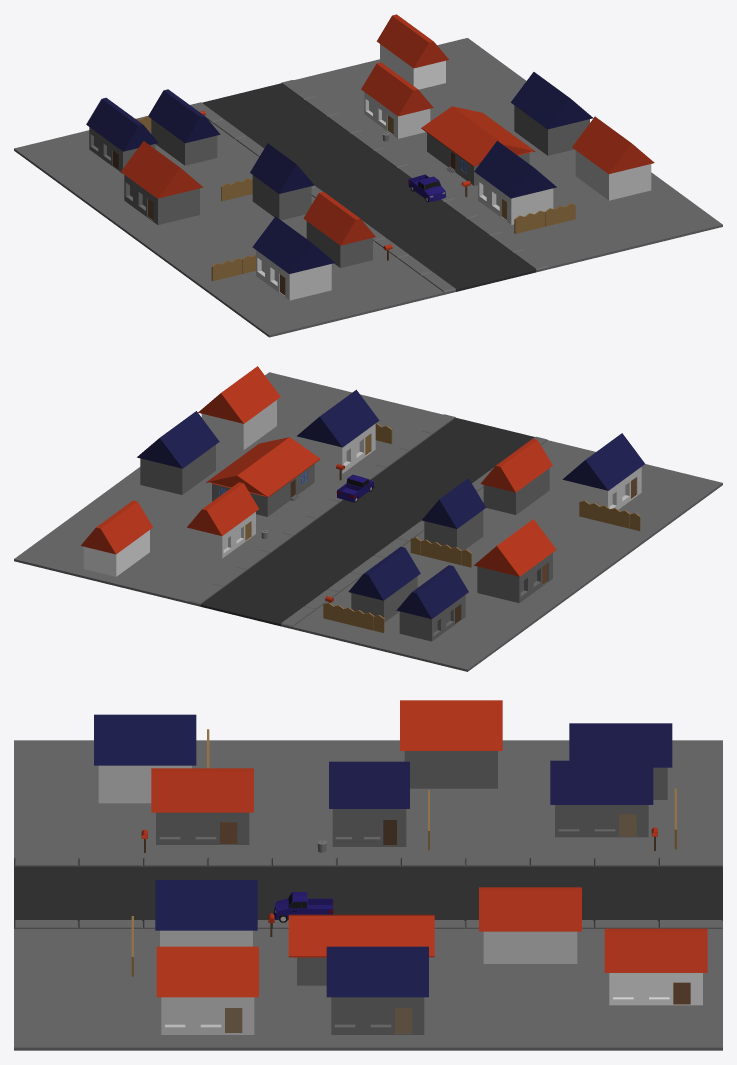
The model's file is map001.fbx.
3 views of the same model, one above another, from view 1: azimuth 30°, elevation 25°; view 2: azimuth 150°, elevation 25°; view 3: azimuth 270°, elevation 25° (orthographic). The views are drawn at different scales.
Parts seen in each view (by area): view 1: Rua, Telhado, Telhado Casa Generica.006, Telhado Casa Generica.005, Telhado Casa Generica.003, Telhado Casa Generica.007, Telhado Casa Generica.004, Base Casa Genrica.004, Telhado Casa Generica.010, Telhado Casa Generica.001, Telhado Casa Generica.009, Telhado Casa Generica (+17 smaller); view 2: Rua, Telhado, Telhado Casa Generica.007, Telhado Casa Generica.006, Telhado Casa Generica.005, Telhado Casa Generica.003, Telhado Casa Generica.004, Base Casa Genrica.005, Telhado Casa Generica, Telhado Casa Generica.008, Telhado Casa Generica.010, Telhado Casa Generica.009 (+17 smaller); view 3: Rua, Telhado Casa Generica.007, Telhado Casa Generica.005, Telhado Casa Generica.004, Telhado, Telhado Casa Generica.006, Telhado Casa Generica.003, Telhado Casa Generica.010, Telhado Casa Generica.009, Telhado Casa Generica.001, Telhado Casa Generica, Telhado Casa Generica.008 (+13 smaller).
Boxes of the visible parts, x1,y1,x2,y2 form: Rua: (14, 38, 722, 337); Telhado: (421, 106, 535, 166); Telhado Casa Generica.006: (121, 141, 203, 198); Telhado Casa Generica.005: (511, 72, 593, 129); Telhado Casa Generica.003: (474, 141, 556, 198); Telhado Casa Generica.007: (252, 216, 334, 273); Telhado Casa Generica.004: (572, 116, 654, 173); Base Casa Genrica.004: (575, 150, 651, 200); Telhado Casa Generica.010: (376, 14, 448, 68); Telhado Casa Generica.001: (361, 62, 433, 116); Telhado Casa Generica.009: (148, 89, 220, 143); Telhado Casa Generica: (303, 191, 375, 245); Rua: (14, 372, 722, 671); Telhado: (206, 437, 320, 497); Telhado Casa Generica.007: (562, 433, 644, 490); Telhado Casa Generica.006: (474, 519, 556, 576); Telhado Casa Generica.005: (137, 411, 219, 468); Telhado Casa Generica.003: (297, 389, 379, 447); Telhado Casa Generica.004: (198, 366, 280, 423); Base Casa Genrica.005: (140, 445, 215, 494); Telhado Casa Generica: (480, 438, 552, 492); Telhado Casa Generica.008: (396, 565, 468, 618); Telhado Casa Generica.010: (80, 500, 152, 554); Telhado Casa Generica.009: (348, 546, 420, 600); Rua: (14, 740, 722, 1050); Telhado Casa Generica.007: (94, 714, 196, 765); Telhado Casa Generica.005: (326, 946, 428, 997); Telhado Casa Generica.004: (156, 946, 258, 997); Telhado: (288, 914, 434, 957); Telhado Casa Generica.006: (400, 700, 502, 750); Telhado Casa Generica.003: (155, 880, 257, 930); Telhado Casa Generica.010: (604, 928, 707, 972); Telhado Casa Generica.009: (550, 760, 653, 804); Telhado Casa Generica.001: (479, 887, 581, 931); Telhado Casa Generica: (151, 768, 253, 812); Telhado Casa Generica.008: (569, 723, 672, 767).
Size of the model in its own units: 2799 by 328 by 2728.
